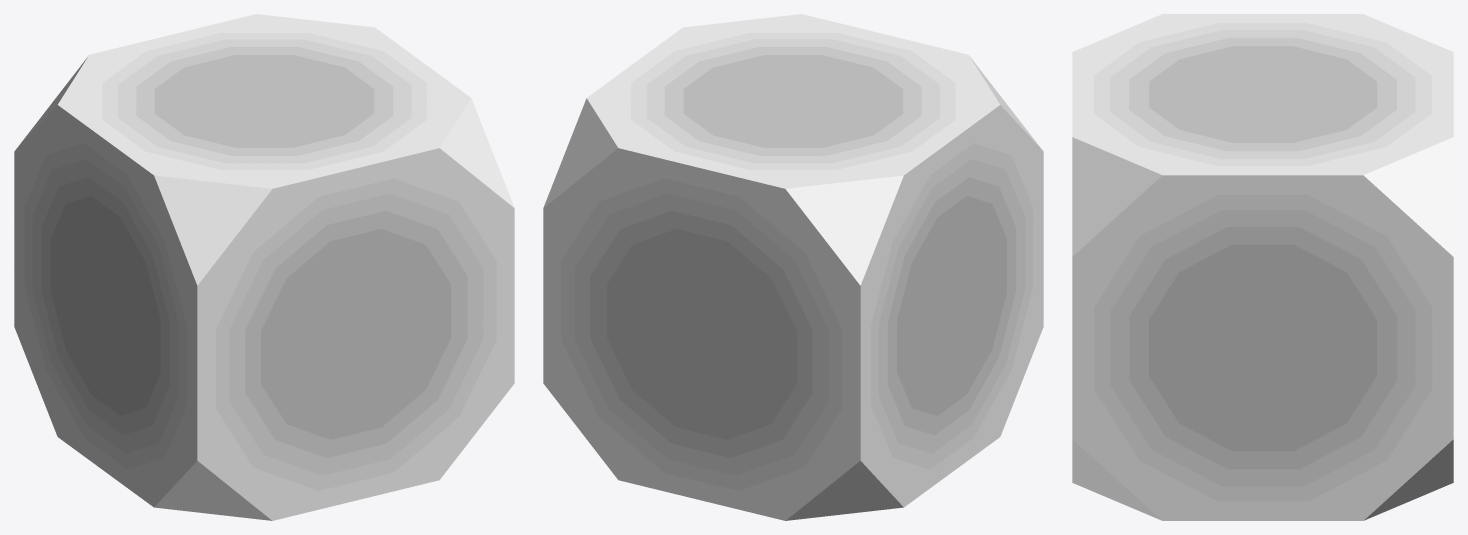
File: PowerBox.fbx
3 renders of one model, left to right at view 1: azimuth 30°, elevation 25°; view 2: azimuth 150°, elevation 25°; view 3: azimuth 270°, elevation 25°, orthographic. The views are drawn at different scales.
Parts seen in each view (by area): view 1: Cube.002; view 2: Cube.002; view 3: Cube.002.
Part boxes in pixels (x1,y1,x2,y2): Cube.002: (14, 14, 514, 520); Cube.002: (543, 14, 1043, 520); Cube.002: (1072, 14, 1453, 520).
Bounding box in the file's own units: 239 × 239 × 239.
